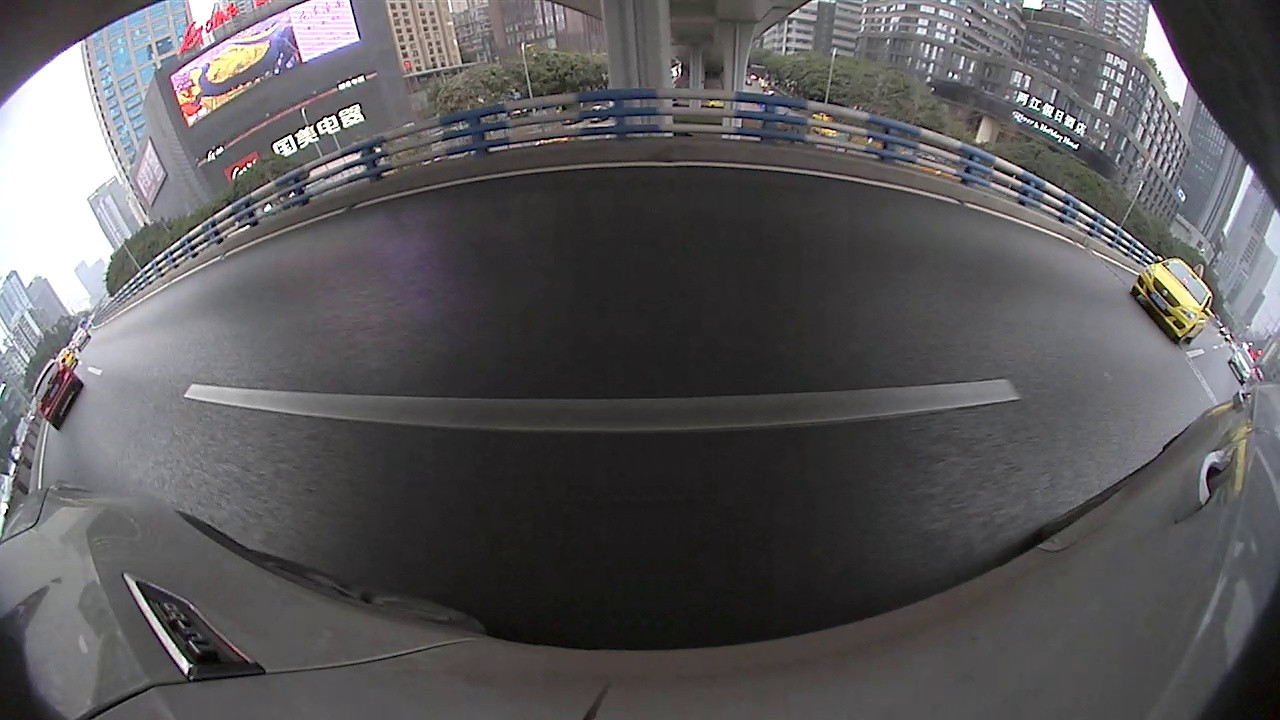car: (928, 155, 1279, 445), (282, 148, 517, 274), (616, 133, 724, 229), (756, 142, 880, 216), (864, 172, 925, 221), (557, 155, 599, 193), (722, 162, 755, 188)
front: (936, 219, 987, 280), (500, 190, 514, 221), (759, 176, 774, 198)
rear: (1146, 331, 1236, 441), (419, 208, 448, 256), (802, 184, 819, 208)
